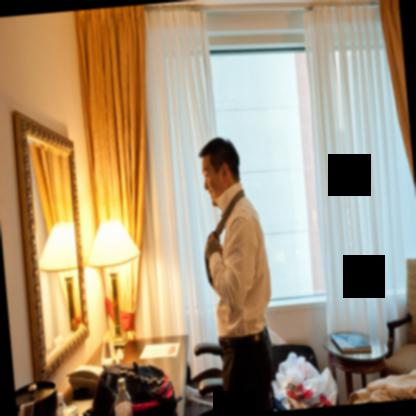backpack: (81, 362, 184, 416)
